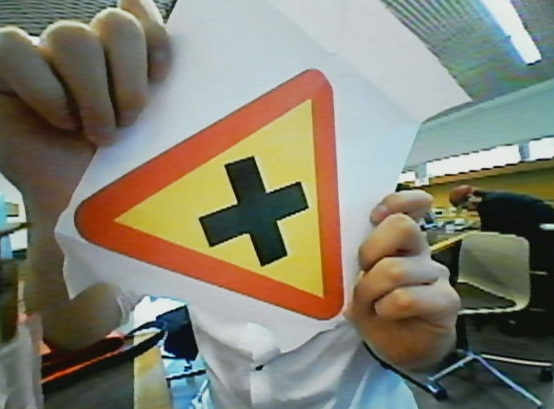junction: (81, 73, 347, 325)
